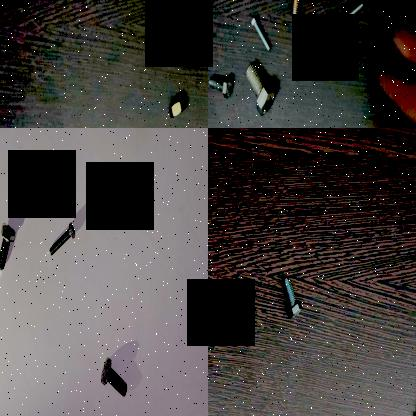Bolts: (242, 58, 276, 118), (98, 353, 132, 399), (42, 221, 76, 262), (214, 282, 236, 332), (248, 12, 272, 56), (279, 278, 301, 322), (208, 65, 233, 101), (0, 220, 16, 273), (338, 2, 365, 30), (285, 0, 305, 19)
NUTS: (166, 90, 186, 122)
